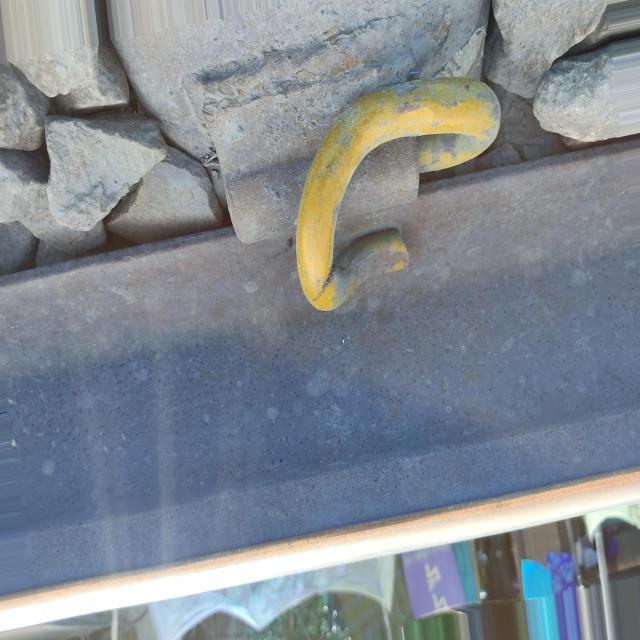Good Fasteners: (174, 11, 523, 343)
